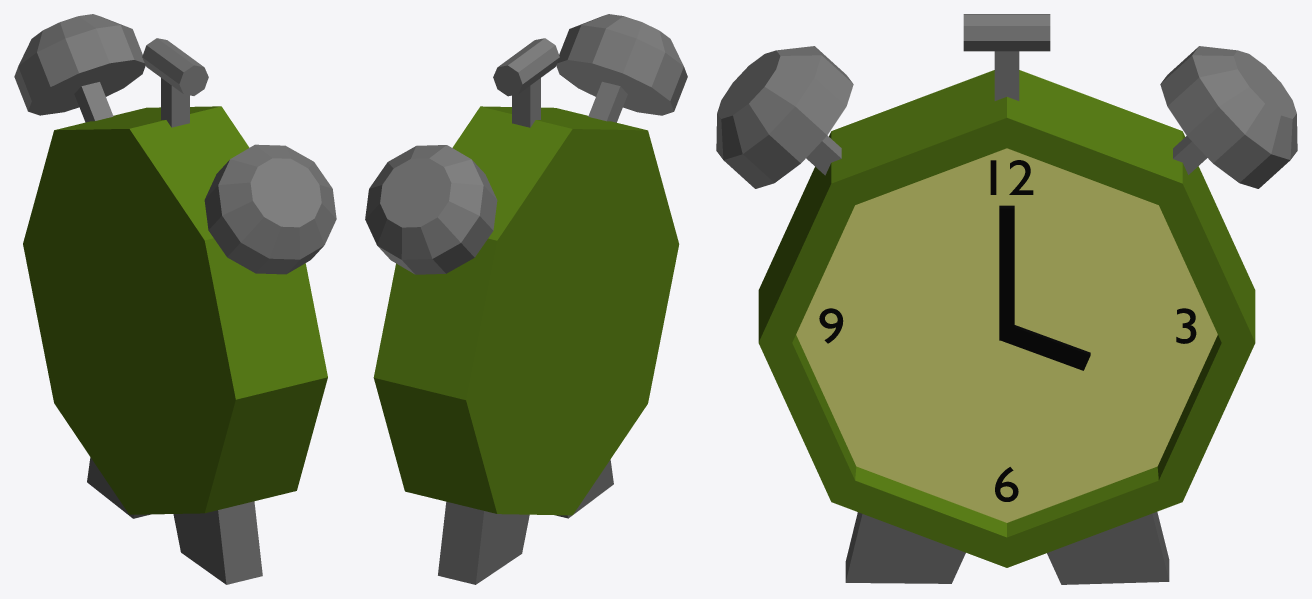
3 renders of one model, left to right at view 1: azimuth 30°, elevation 25°; view 2: azimuth 150°, elevation 25°; view 3: azimuth 270°, elevation 25°, orthographic. The views are drawn at different scales.
Parts seen in each view (by area): view 1: Walec, Walec.003, Walec.002, Walec.001, Kostka, Kostka.002; view 2: Walec, Walec.002, Walec.003, Walec.001, Kostka.001, Kostka; view 3: Walec, Walec.002, Walec.003, Walec.001, Kostka.004, Kostka.003, Kostka, Kostka.001, Kostka.002.
Boxes of the visible parts, x1=… form: Walec: x1=23, y1=106, x2=327, y2=584; Walec.003: x1=204, y1=144, x2=336, y2=274; Walec.002: x1=14, y1=14, x2=145, y2=115; Walec.001: x1=142, y1=38, x2=208, y2=95; Kostka: x1=161, y1=78, x2=189, y2=127; Kostka.002: x1=74, y1=82, x2=113, y2=122; Walec: x1=373, y1=106, x2=679, y2=584; Walec.002: x1=365, y1=145, x2=497, y2=274; Walec.003: x1=556, y1=14, x2=687, y2=115; Walec.001: x1=493, y1=38, x2=559, y2=96; Kostka.001: x1=588, y1=81, x2=627, y2=122; Kostka: x1=512, y1=78, x2=540, y2=127; Walec: x1=758, y1=70, x2=1255, y2=584; Walec.002: x1=1160, y1=46, x2=1297, y2=188; Walec.003: x1=716, y1=46, x2=853, y2=188; Walec.001: x1=963, y1=14, x2=1050, y2=51; Kostka.004: x1=999, y1=205, x2=1014, y2=340; Kostka.003: x1=1001, y1=325, x2=1090, y2=370; Kostka: x1=994, y1=51, x2=1019, y2=100; Kostka.001: x1=806, y1=135, x2=841, y2=175; Kostka.002: x1=1173, y1=136, x2=1207, y2=174.
Bounding box in the file's own units: 60 × 248 × 234.
